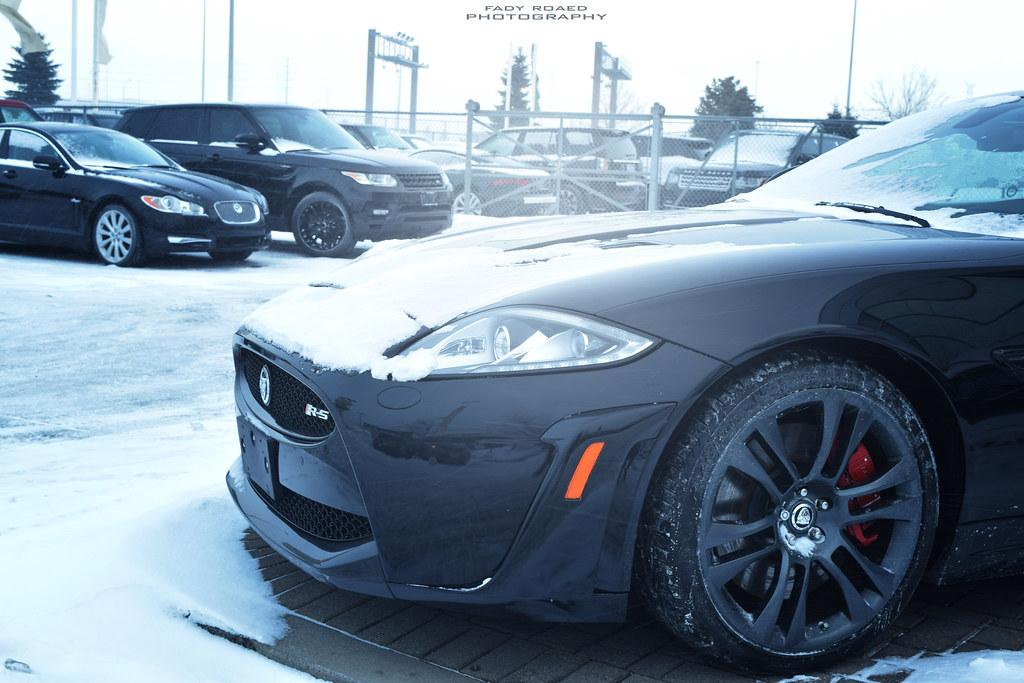car: (226, 90, 1024, 678), (113, 103, 455, 258), (1, 121, 272, 268)
